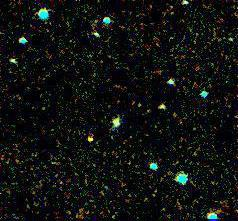star: (75, 125, 105, 155)
